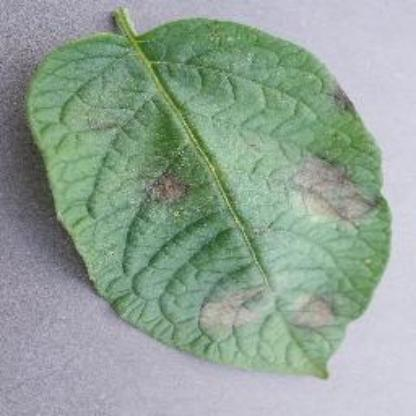Late-Blight: (24, 6, 388, 380)
